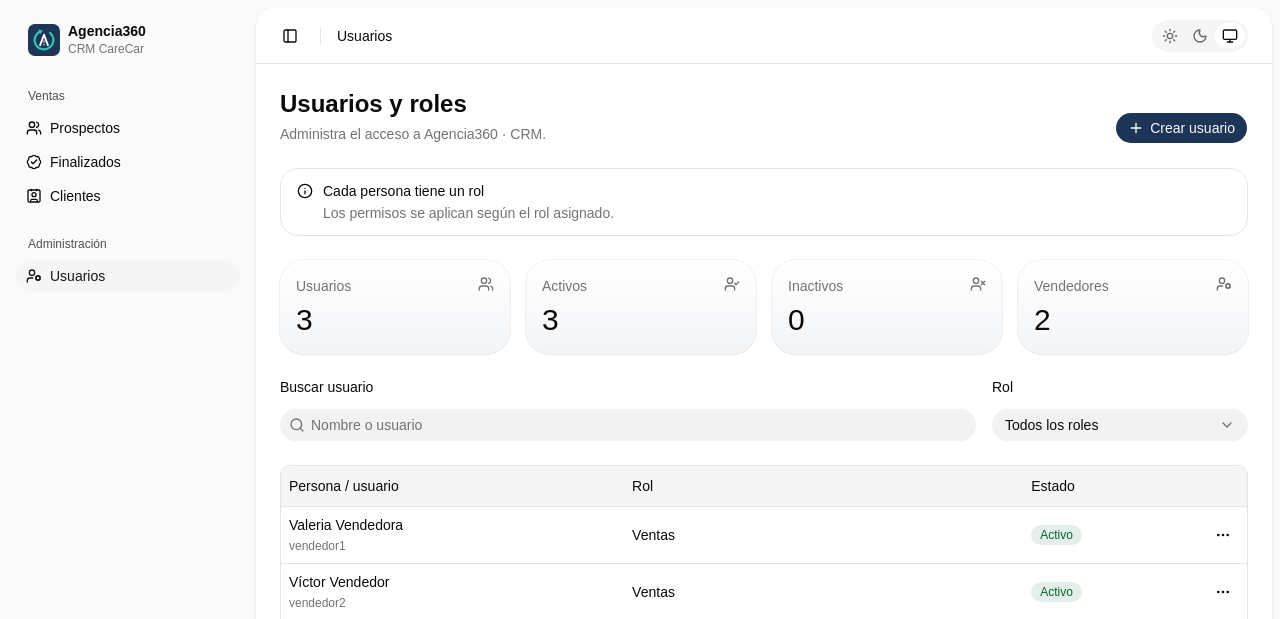
Test: Administración de usuarios del CRM › pide todos los campos antes de crear
Expected: the text "Valeria Vendedora" is shown, [289,517,403,533]
Click the button "Crear usuario" at (1182, 128), box [1115,112,1248,144]
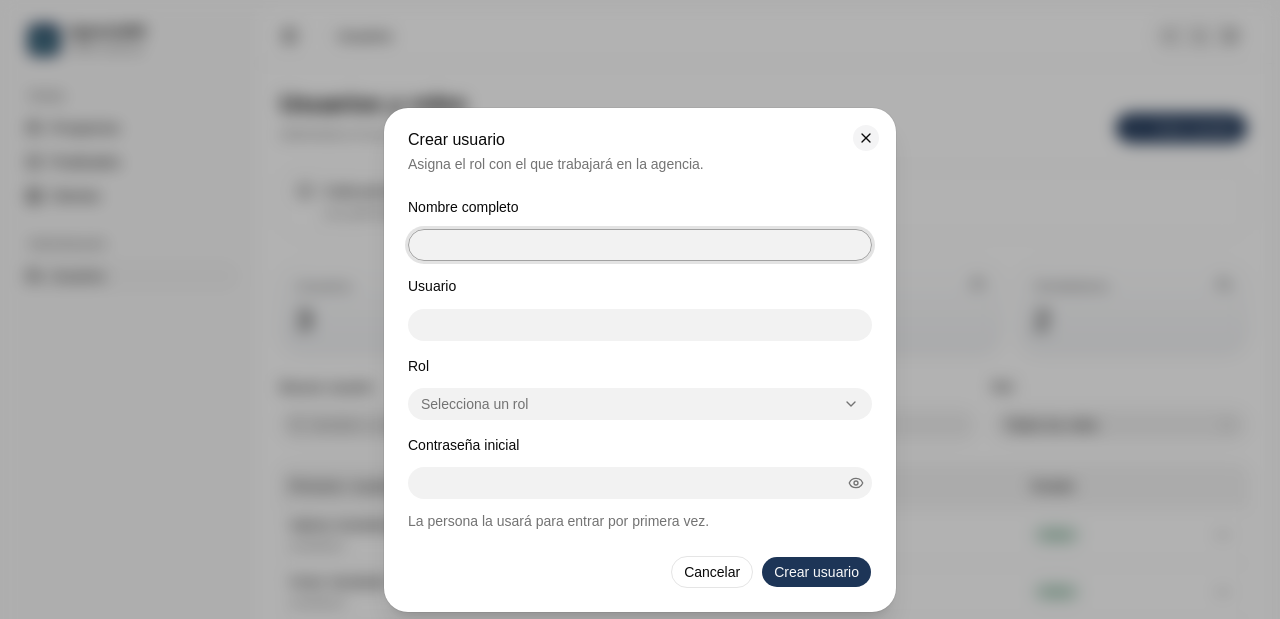
Click the button "Crear usuario" at (817, 572), box [761,556,872,588]
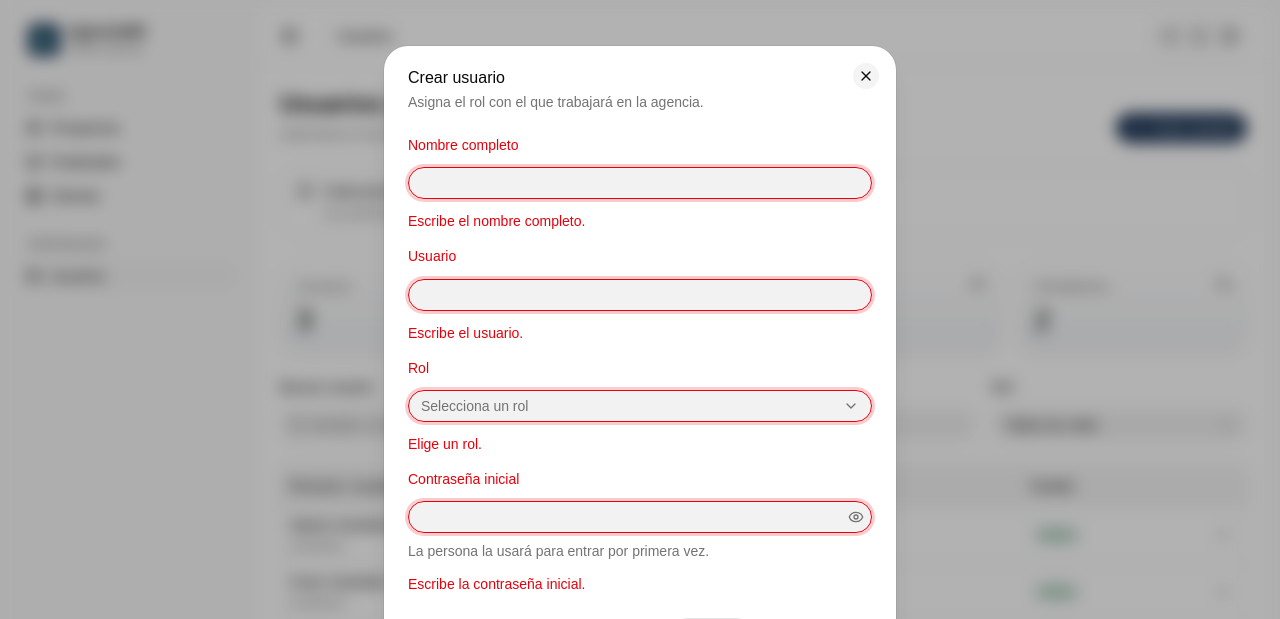
Expected: the text "Escribe el nombre completo." is shown, [408,213,585,229]
Expected: the text "Elige un rol." is shown, [408,436,482,452]
